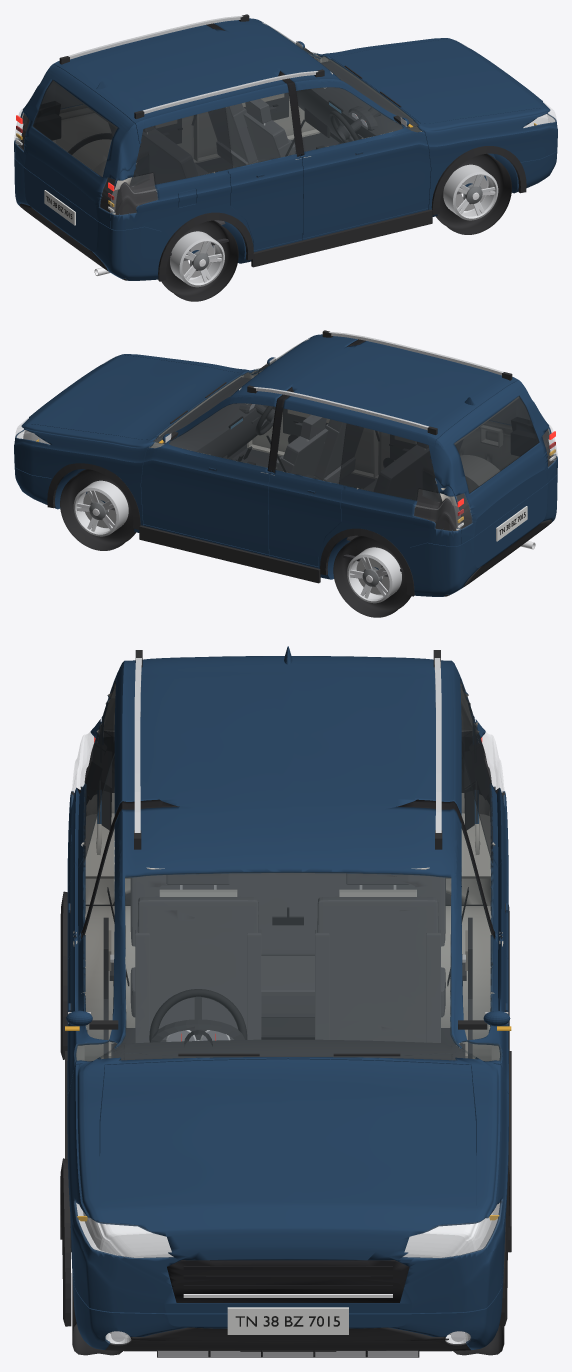
File: car_suv.glb
3 views of the same model, one above another, from view 1: azimuth 30°, elevation 25°; view 2: azimuth 150°, elevation 25°; view 3: azimuth 270°, elevation 25° (orthographic). The views are drawn at different scales.
Visible parts, largest first — view 1: Body, Glass_GlassTint, Glass_Glass, Dash, SillClad.001, WFR_Tyre, WRR_Tyre, SeatRear0Back, TailLens_R, TailHousing_R, WFR_Barrel, WRR_Barrel (+17 smaller); view 2: Body, Glass_GlassTint, Glass_Glass, Dash, SillClad, WFL_Tyre, WRL_Tyre, SeatRear0Back, TailLens_L, TailHousing_L, WFL_Barrel, WRL_Barrel (+19 smaller); view 3: Body, Glass_Glass, SeatPassengerBack, SeatDriverBack, Trim_BlackGloss, SeatRear0Back, Trim_BlackTrim, Dash, Glass_GlassTint, SeatRear0Cushion, PlateFront, HeadLens_R (+19 smaller).
Part boxes in pixels (box(x1,y1,x2,y2)): Body: box(14, 18, 557, 280); Glass_GlassTint: box(32, 80, 232, 186); Glass_Glass: box(225, 24, 422, 167); Dash: box(296, 61, 417, 141); SillClad.001: box(251, 209, 432, 267); WFR_Tyre: box(436, 153, 511, 234); WRR_Tyre: box(161, 220, 238, 301); SeatRear0Back: box(109, 124, 197, 183); TailLens_R: box(100, 173, 157, 214); TailHousing_R: box(100, 172, 157, 214); WFR_Barrel: box(443, 164, 498, 220); WRR_Barrel: box(170, 231, 224, 287); Body: box(14, 334, 557, 596); Glass_GlassTint: box(339, 396, 539, 502); Glass_Glass: box(148, 341, 346, 483); Dash: box(154, 377, 268, 458); SillClad: box(139, 525, 320, 583); WFL_Tyre: box(60, 469, 135, 550); WRL_Tyre: box(333, 536, 411, 617); SeatRear0Back: box(374, 440, 462, 499); TailLens_L: box(414, 489, 471, 530); TailHousing_L: box(414, 488, 471, 530); WFL_Barrel: box(73, 480, 128, 536); WRL_Barrel: box(347, 547, 401, 603); Body: box(67, 656, 508, 1349); Glass_Glass: box(74, 754, 501, 1061); SeatPassengerBack: box(317, 896, 438, 1042); SeatDriverBack: box(137, 896, 258, 1039); Trim_BlackGloss: box(74, 799, 502, 1302); SeatRear0Back: box(130, 873, 445, 955); Trim_BlackTrim: box(105, 893, 470, 1351); Dash: box(113, 1039, 462, 1060); Glass_GlassTint: box(83, 678, 493, 862); SeatRear0Cushion: box(130, 956, 445, 1017); PlateFront: box(227, 1307, 348, 1334); HeadLens_R: box(74, 1200, 173, 1258).
Bounding box in the file's own units: 4.33 × 1.76 × 1.86.
